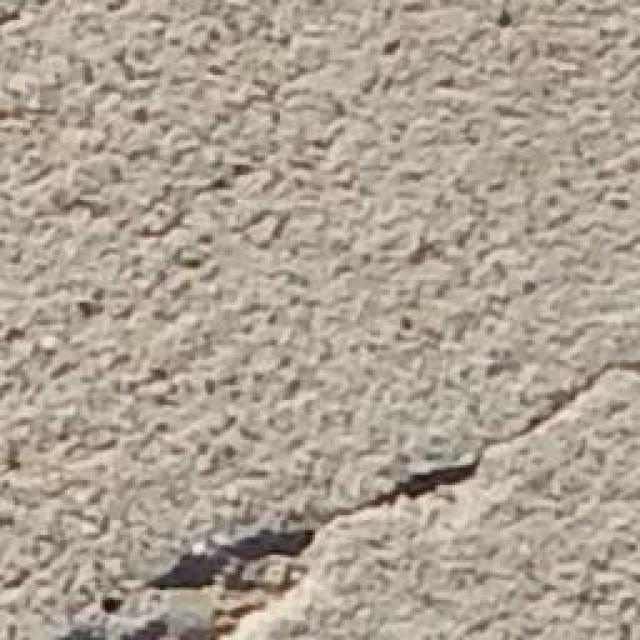concrete-crack: (60, 351, 640, 640)
